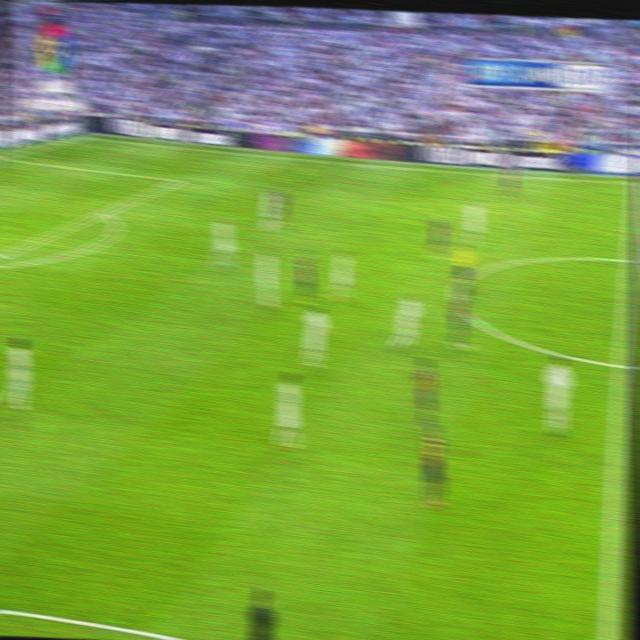corner: (76, 130, 91, 142)
halfcircle_bottom: (612, 348, 632, 380)
halfcircle_top: (621, 245, 638, 271)
top_arc_area_intersection: (97, 203, 112, 219)
